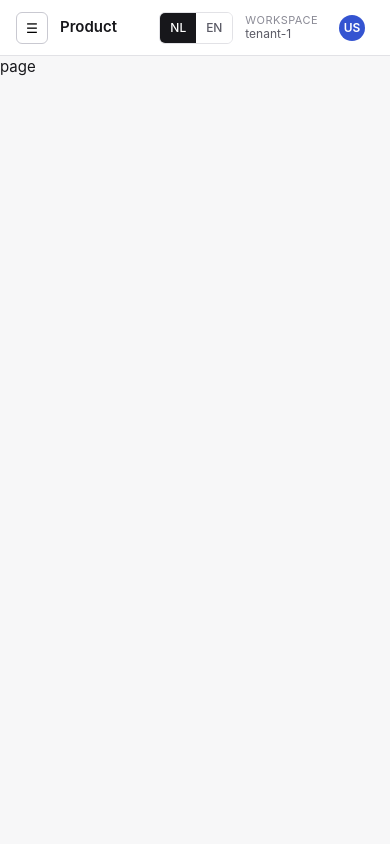
Test case: AppShell accessibility (UI-8) › exposes the navigation toggle's state, not just its icon
The width and height of the screenshot is (390, 844).
What coordinates should you click on to do the following:
click the button with test id "mobile-nav-toggle"
I would click on:
 (32, 28)
Its box is [16,12,48,44].
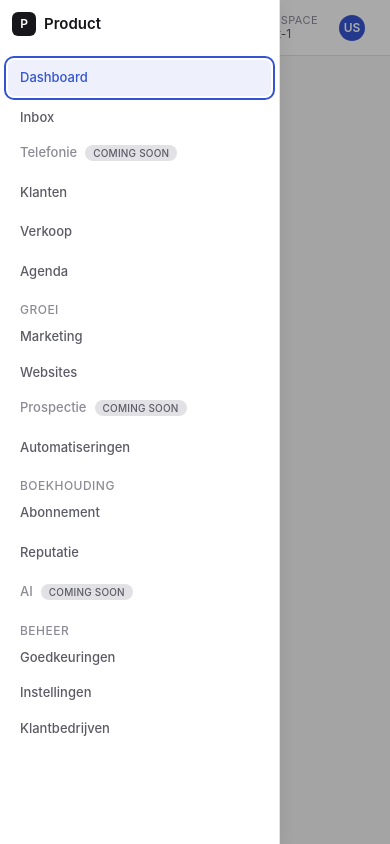
Expected: the button with test id "mobile-nav-toggle" is expanded, [16,12,48,44]
